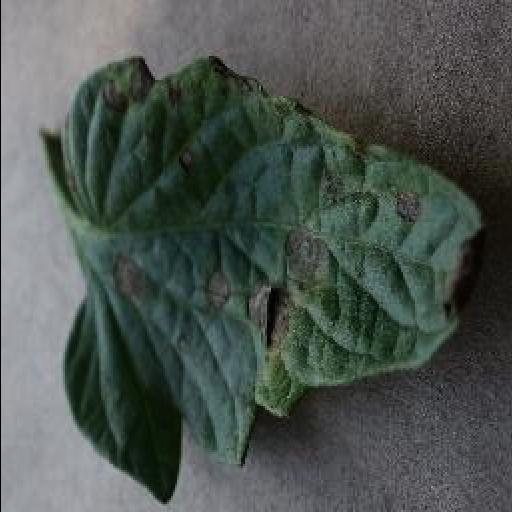disease_tomato: (60, 56, 486, 500)
